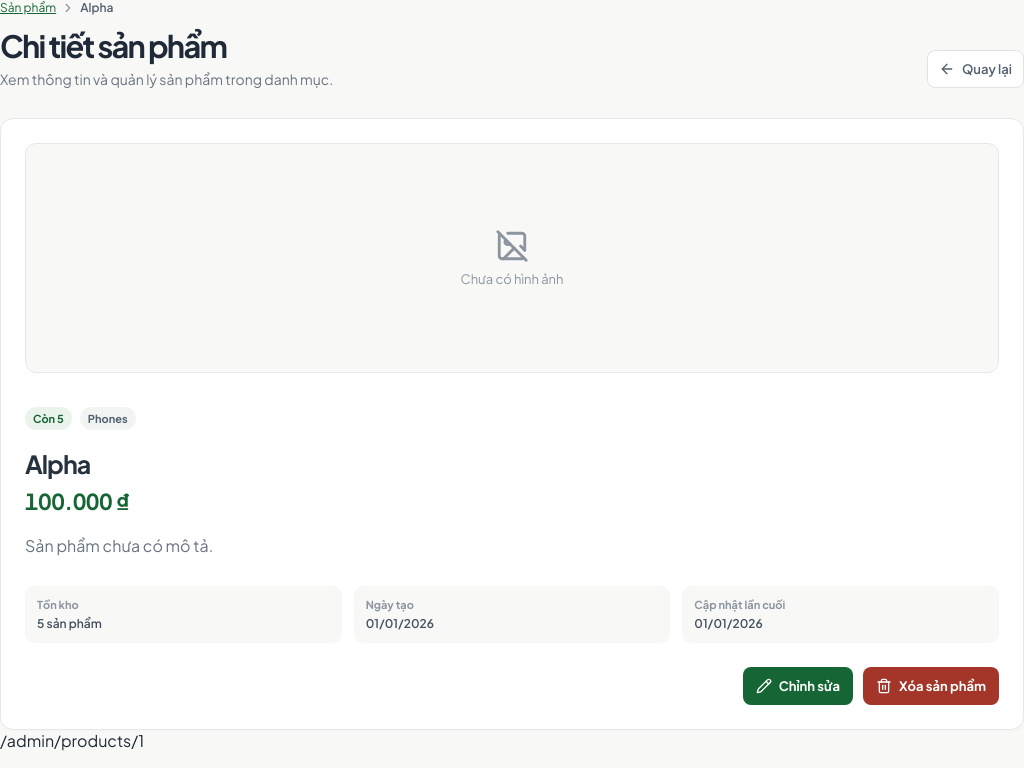
Test: ProductDetailPage › deleting removes the cached detail, invalidates lists and returns to the list
Expected: the heading "Alpha" is shown, [25,448,90,480]
Click the button "Xóa sản phẩm" at (931, 686), box [863,667,999,705]
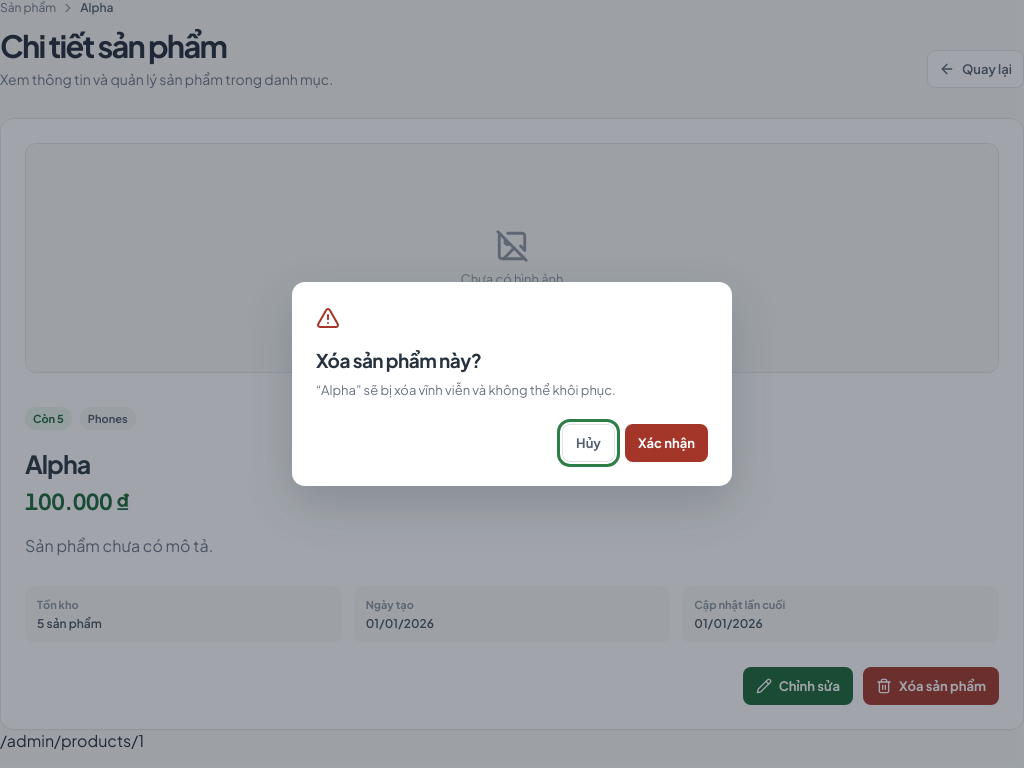
Click the button "Xác nhận" at (666, 443), box [625,424,708,462]
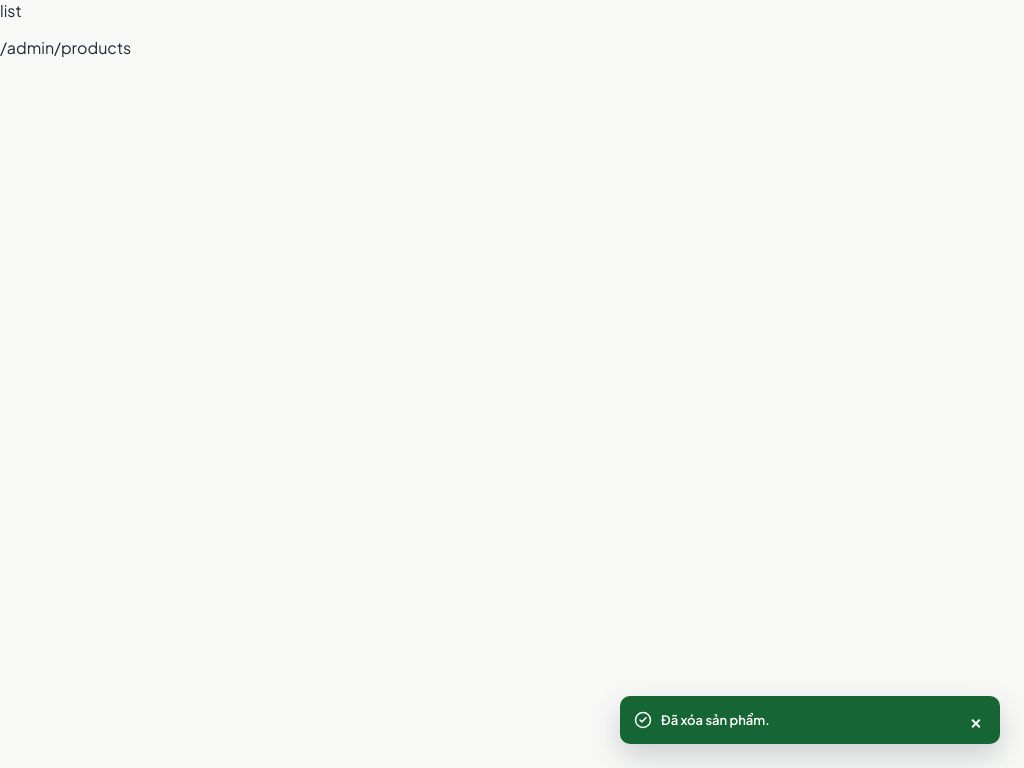
Result: the text with test id "location" reads "/admin/products" at [0,37,131,58]
